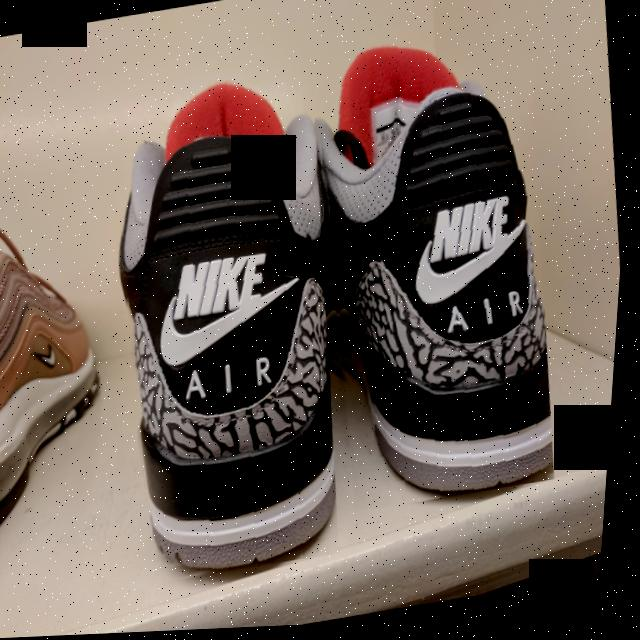shoe: (288, 16, 586, 520), (89, 65, 373, 589)
